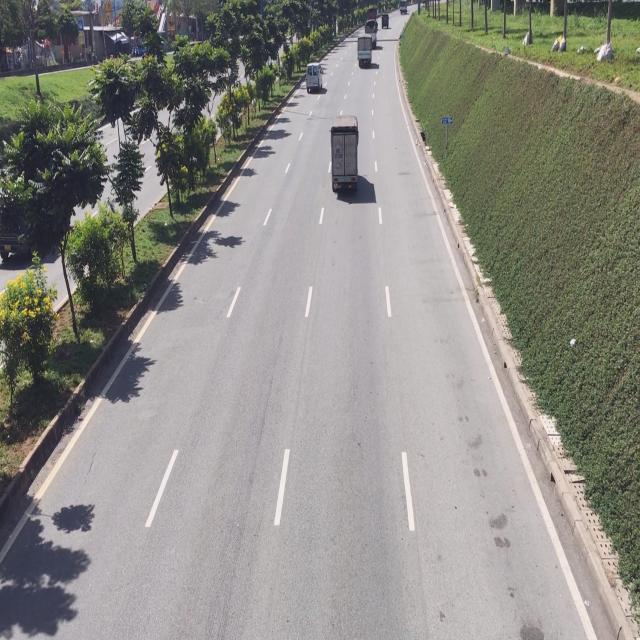bus: (304, 60, 322, 91)
truck: (332, 111, 361, 197), (358, 34, 373, 68)
